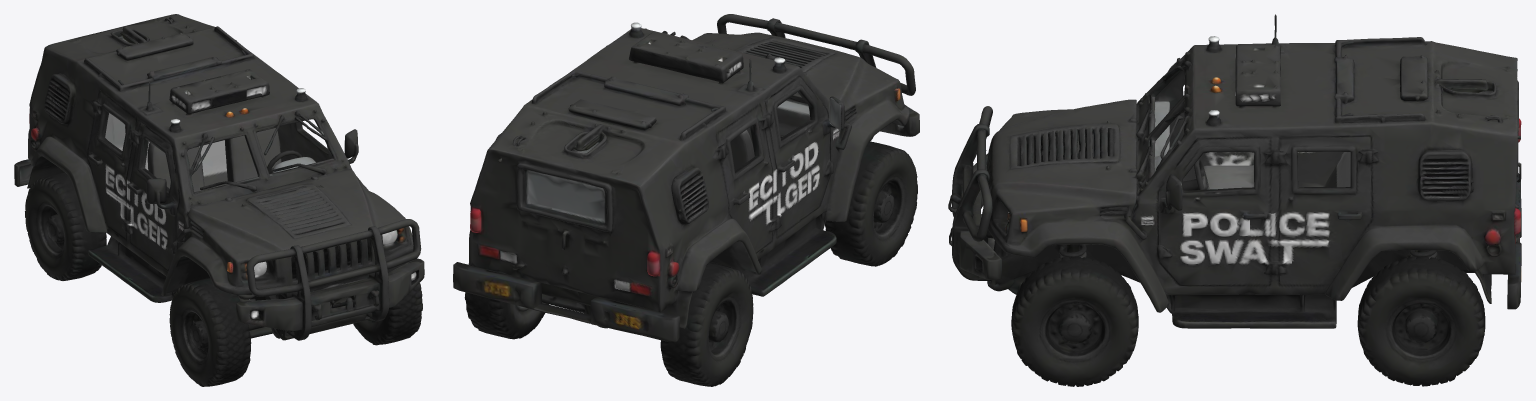
Rendered from 037_swat_bearcat.glb.
3 views of the same model, side by side, from view 1: azimuth 30°, elevation 25°; view 2: azimuth 150°, elevation 25°; view 3: azimuth 270°, elevation 25° (orthographic). The views are drawn at different scales.
Parts seen in each view (by area): view 1: geometry_0; view 2: geometry_0; view 3: geometry_0.
Part boxes in pixels (left/top/right/bottom): geometry_0: left=14, top=14, right=424, bottom=386; geometry_0: left=453, top=14, right=919, bottom=386; geometry_0: left=948, top=14, right=1521, bottom=386.
Size of the model in its own units: 3.29 by 3.48 by 6.5.
1 material, 1 textured.
